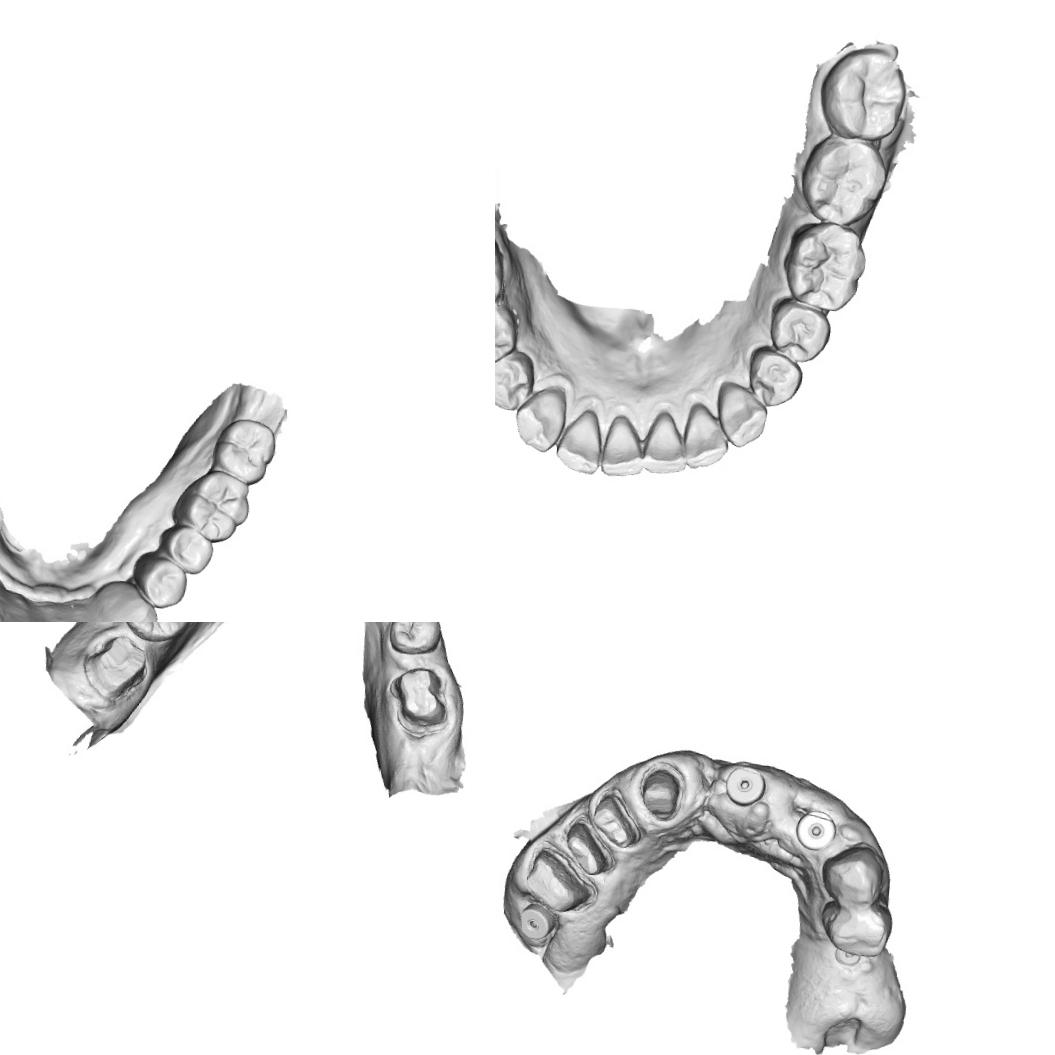canine: (816, 840, 888, 910), (712, 380, 769, 453), (512, 382, 568, 456), (101, 593, 160, 622)
crown: (520, 843, 598, 915), (385, 662, 455, 740), (79, 630, 149, 702), (585, 790, 642, 852), (559, 816, 611, 878), (634, 763, 686, 824)
implant: (723, 760, 768, 809), (792, 807, 838, 854), (516, 900, 558, 942), (832, 947, 864, 966)
incisor: (552, 406, 608, 476), (678, 402, 732, 474), (637, 409, 690, 479), (597, 416, 643, 480), (0, 608, 37, 622), (68, 613, 112, 622)
molar: (815, 46, 910, 144), (797, 131, 892, 229), (777, 218, 870, 314), (168, 464, 253, 546), (210, 414, 278, 484), (114, 622, 206, 646)
premolar: (762, 296, 834, 366), (814, 901, 893, 960), (742, 344, 803, 412), (131, 549, 190, 610), (154, 520, 216, 576), (495, 348, 536, 413), (384, 622, 444, 656), (495, 299, 520, 367)
